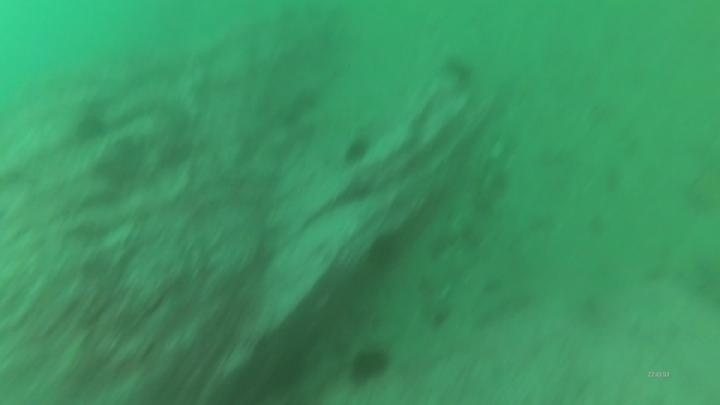echinus: (346, 343, 393, 387), (365, 231, 404, 271), (440, 52, 478, 89), (72, 110, 110, 145), (341, 134, 374, 168)
